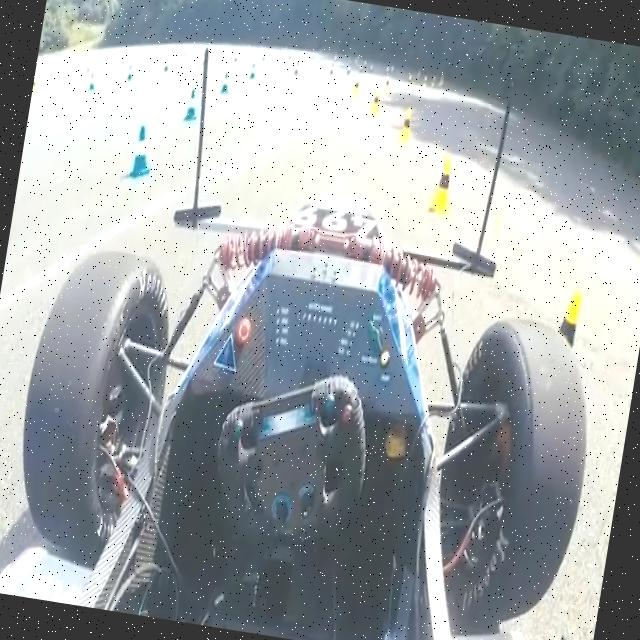blue_cone: (126, 120, 158, 179), (183, 88, 200, 122), (219, 69, 232, 96), (125, 61, 136, 85), (248, 59, 258, 82), (86, 71, 96, 92), (161, 57, 171, 76), (292, 58, 301, 77), (328, 59, 335, 76), (346, 63, 352, 78), (358, 64, 364, 76)
yellow_cone: (520, 281, 596, 469), (426, 156, 458, 216), (398, 106, 415, 142), (370, 92, 382, 119), (351, 80, 361, 100), (84, 62, 94, 82), (151, 52, 160, 72), (120, 56, 128, 74), (382, 78, 390, 95), (406, 73, 414, 88), (181, 50, 189, 63), (430, 74, 436, 89), (422, 76, 428, 90), (32, 78, 36, 95), (440, 76, 444, 87)
